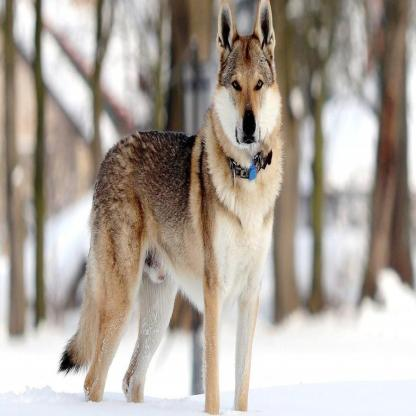dog: (59, 2, 284, 414)
